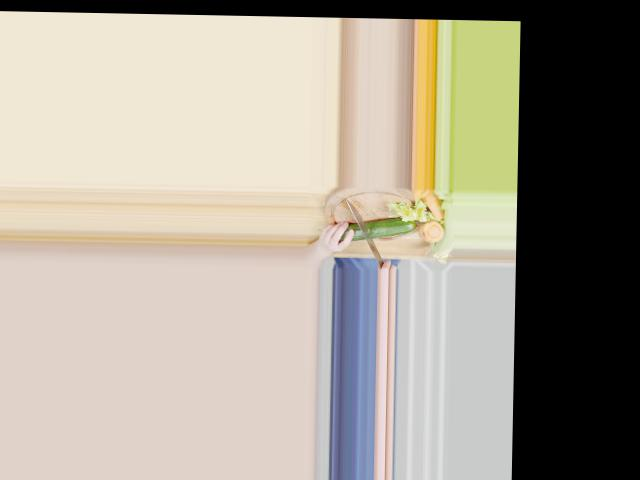cucumber: (339, 216, 417, 242)
